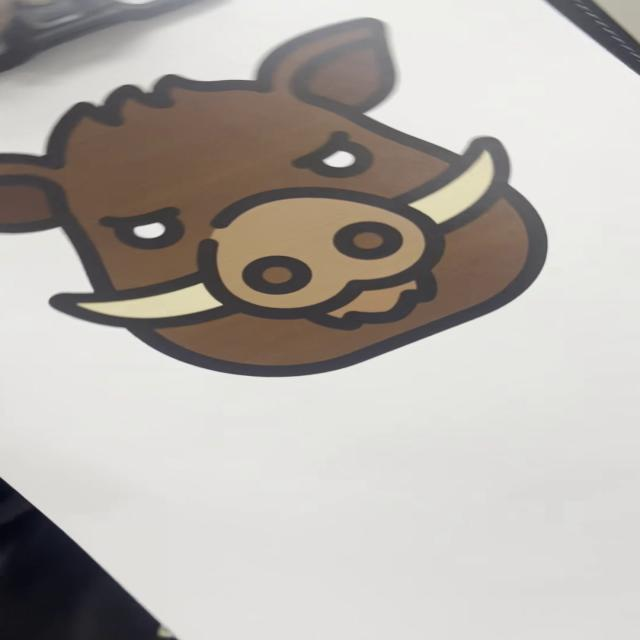animal: (8, 15, 561, 380)
